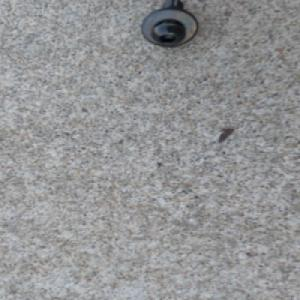BoltWasher: (137, 0, 199, 48)
